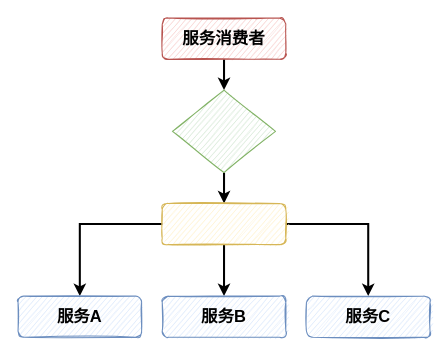
Some shapes in this 448 by 355 pixel diagram are drawn without their labels. Each missing label, with the box of its shape:
服务容错: (161, 202, 286, 245)
负载均衡: (171, 89, 276, 173)
